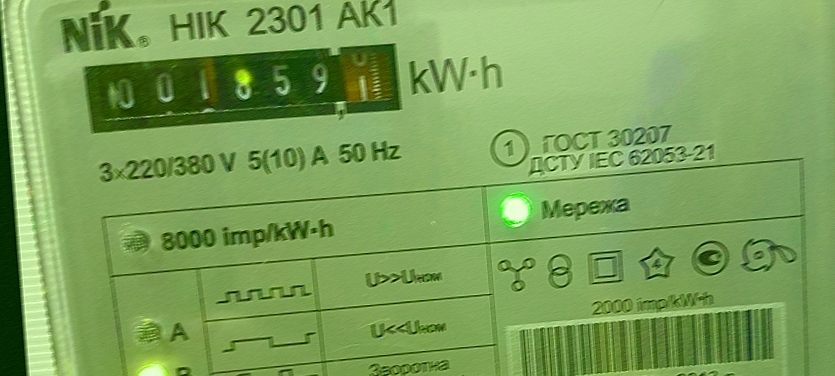0: (113, 76, 135, 113), (152, 71, 174, 106)
1: (196, 67, 210, 104), (354, 73, 369, 104)
5: (269, 62, 292, 99)
8: (231, 67, 253, 104)
9: (308, 61, 329, 97)
screen: (71, 31, 412, 146)
